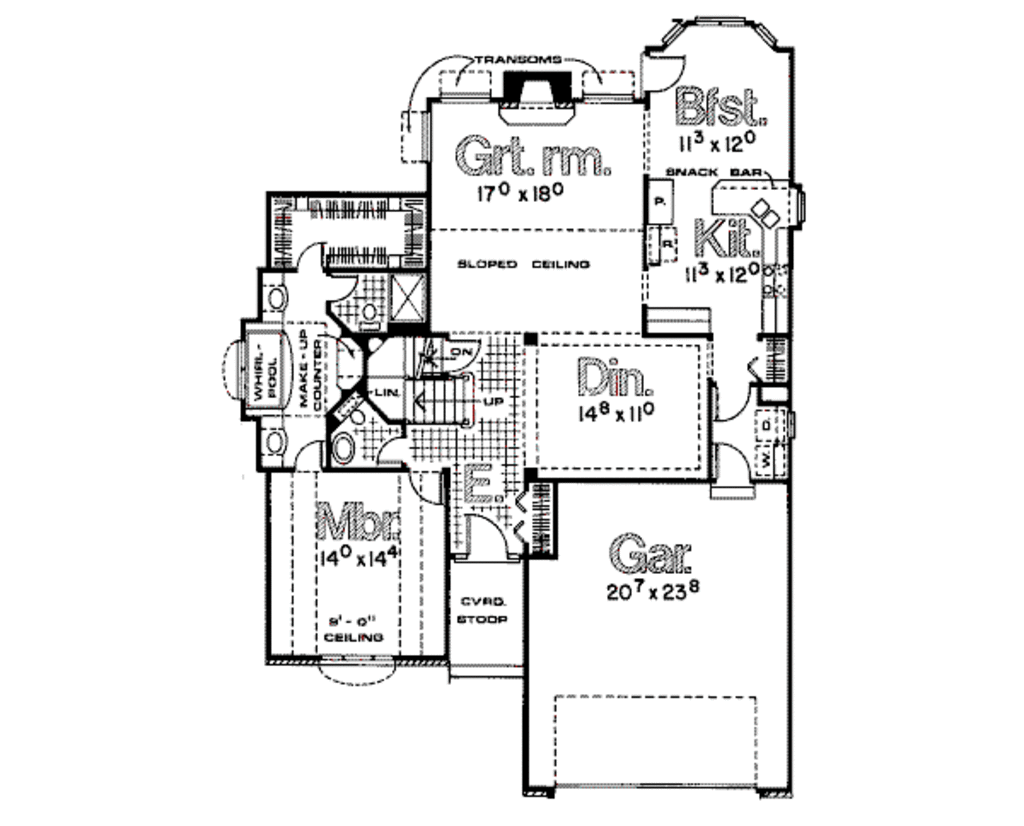door: (460, 510, 512, 560), (709, 378, 753, 427), (644, 49, 686, 97), (403, 467, 446, 510), (712, 439, 748, 482), (294, 238, 334, 274), (375, 435, 409, 470), (325, 271, 359, 303), (292, 441, 326, 471)
small_sink: (259, 414, 292, 475), (326, 424, 364, 476), (262, 269, 289, 327)
stairs: (367, 338, 482, 428)
twin_sink: (749, 191, 782, 235)
window: (665, 10, 782, 52), (317, 644, 395, 675)
